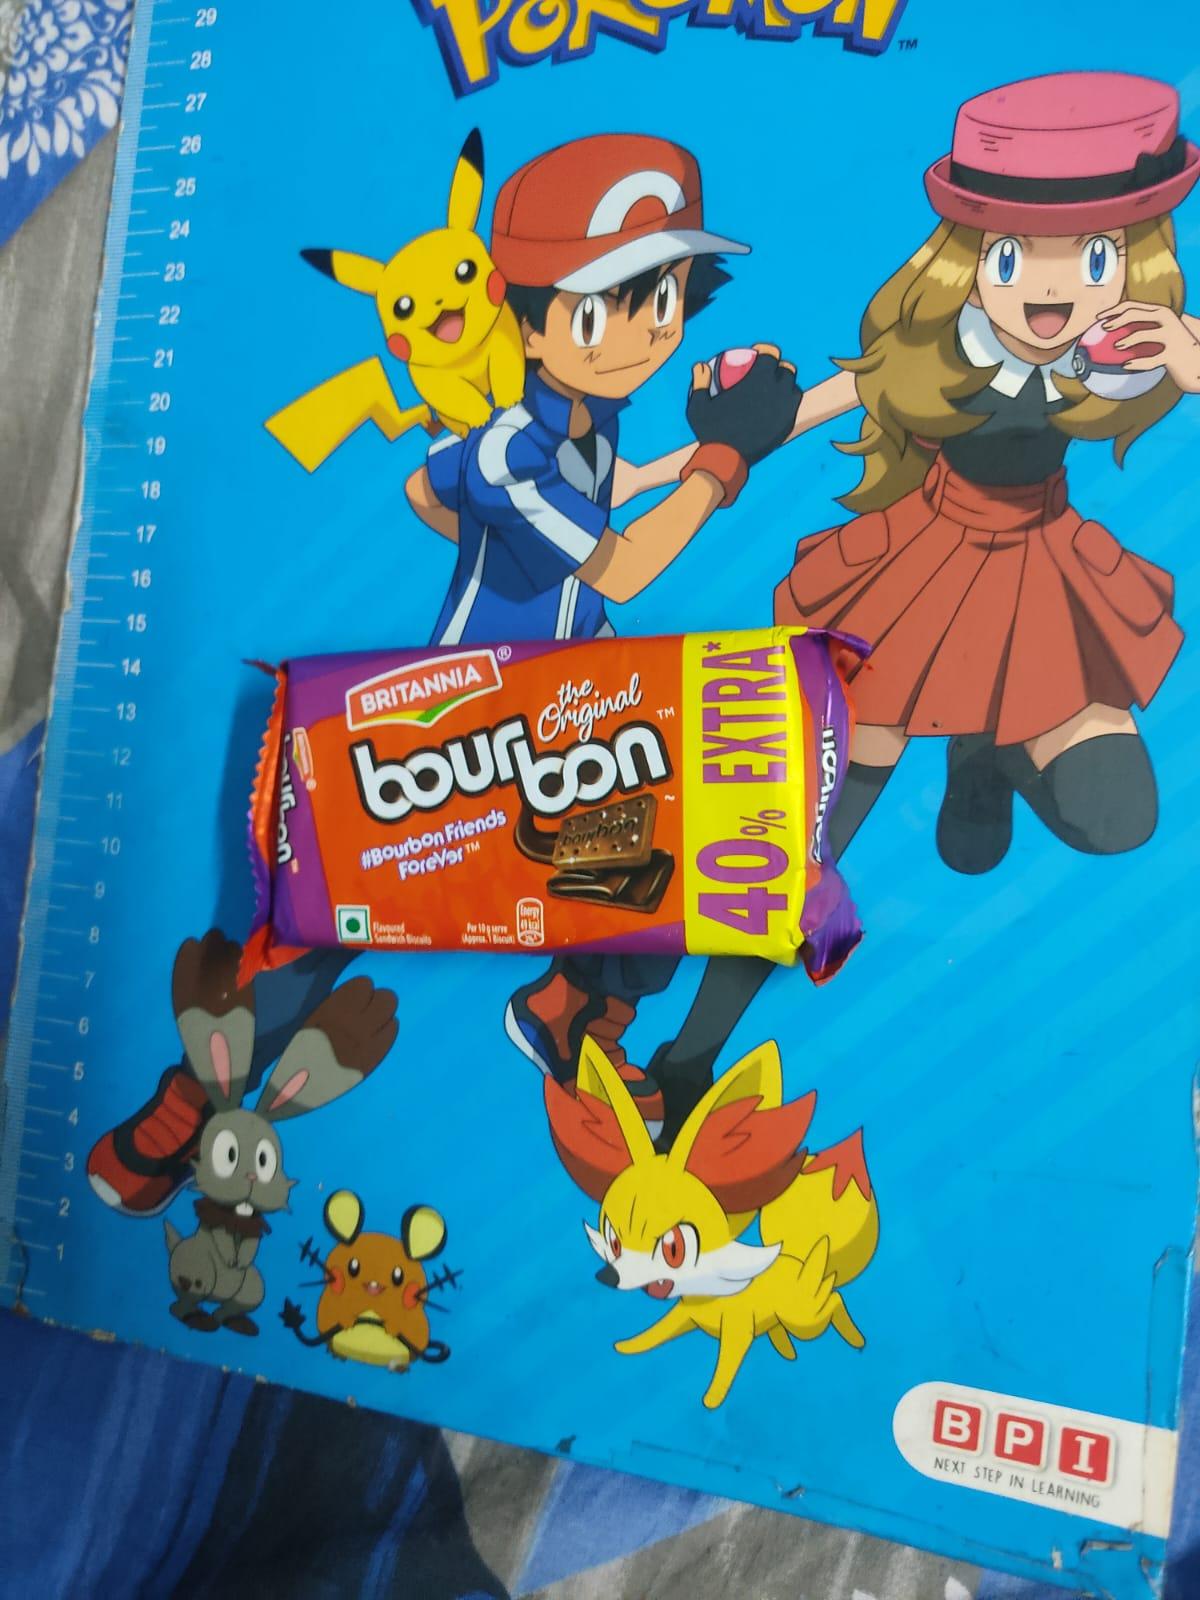010_Bourbon: (279, 624, 834, 966)
